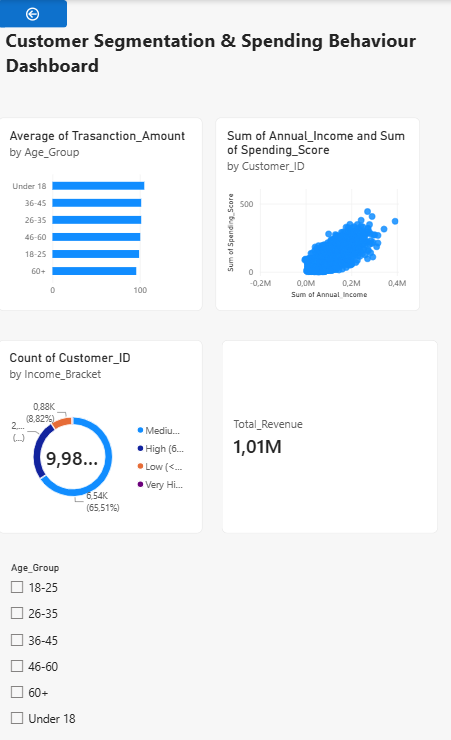

The dashboard page shown, as its layout file describes it:
{"tool":"powerbi","page":{"name":"Page 1","canvas":[1920,1080],"ordinal":0},"visuals":[{"type":"clusteredBarChart","fields":{"Category":["clean_customer_data.Age_Group"],"Y":["Avg(clean_customer_data.Trasenction_Amount)"]},"box":[0,170,296,280],"z":0},{"type":"donutChart","fields":{"Category":["clean_customer_data.Income_Bracket"],"Y":["CountNonNull(clean_customer_data.Customer_ID)"]},"box":[0,491.7,296,280],"z":1},{"type":"scatterChart","fields":{"Category":["clean_customer_data.Customer_ID"],"X":["Sum(clean_customer_data.Annual_Income)"],"Y":["Sum(clean_customer_data.Spending_Score)"]},"box":[315,170,296,280],"z":2},{"type":"actionButton","box":[0,0,100,40],"z":3},{"type":"slicer","fields":{"Values":["clean_customer_data.Age_Group"]},"box":[10,811.7,610,250],"z":4},{"type":"cardVisual","fields":{"Data":["clean_customer_data.Total_Revenue"]},"box":[323.3,491.7,313.3,280],"z":5},{"type":"textbox","box":[10,40,731.7,83.3],"z":6}]}

Visuals, with their boxes on the page's 1920x1080 design canvas (x1, y1, x2, y2). These are canvas units, not pixel positions in the 451x740 screenshot, which may show the page scaled, cropped or inside an application window:
clusteredBarChart - clean_customer_data.Age_Group x Avg(clean_customer_data.Trasenction_Amount): BBox(0, 170, 296, 450)
donutChart - clean_customer_data.Income_Bracket x CountNonNull(clean_customer_data.Customer_ID): BBox(0, 492, 296, 772)
scatterChart - clean_customer_data.Customer_ID x Sum(clean_customer_data.Annual_Income): BBox(315, 170, 611, 450)
actionButton: BBox(0, 0, 100, 40)
slicer - clean_customer_data.Age_Group: BBox(10, 812, 620, 1062)
cardVisual - clean_customer_data.Total_Revenue: BBox(323, 492, 637, 772)
textbox: BBox(10, 40, 742, 123)
